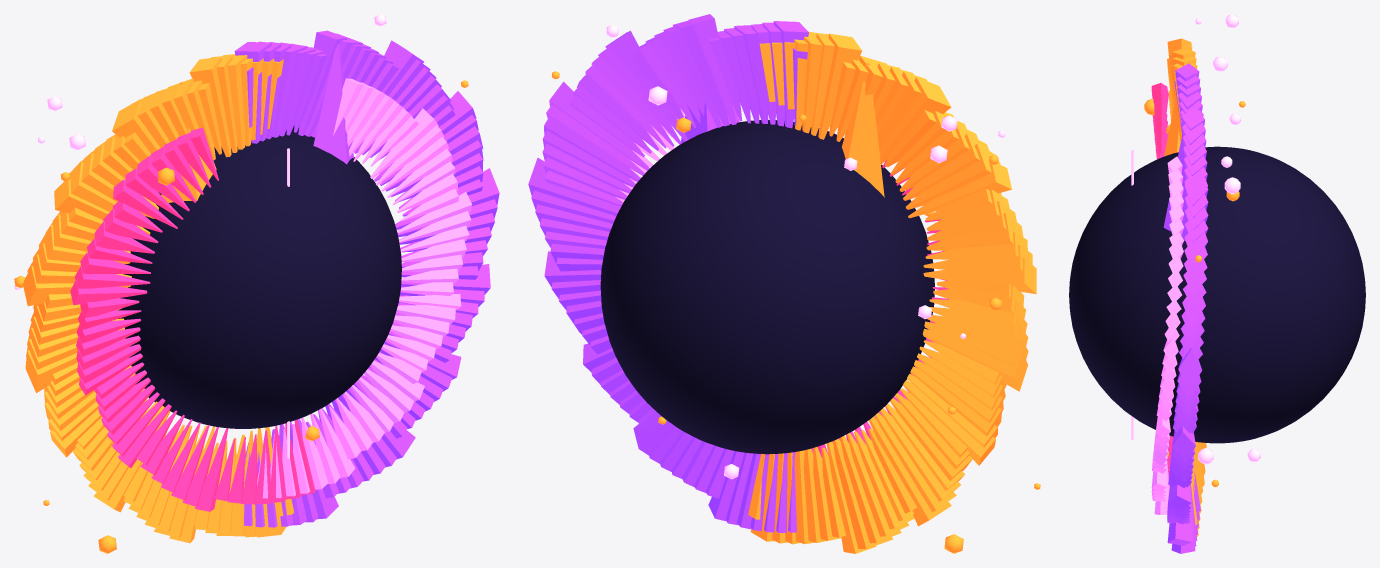
Rendered from split-firefox.glb.
3 views of the same model, side by side, from view 1: azimuth 30°, elevation 25°; view 2: azimuth 150°, elevation 25°; view 3: azimuth 270°, elevation 25° (orthographic). The views are drawn at different scales.
Visible parts, largest first — view 1: SplitCore, NightlyEar, NormalHalf006, NightlyHalf055, NormalHalf004, NormalHalf013, NightlyHighlight034, NightlyHalf059, NormalHalf020, NormalCoral013, NormalHalf005, NormalCoral034 (+105 smaller); view 2: SplitCore, NormalEar, NormalHalf013, NormalHalf027, NormalHalf034, NormalHalf006, NormalHalf020, NormalHalf019, NormalHalf048, NightlyHalf041, NightlyHalf034, NightlyHalf055 (+88 smaller); view 3: SplitCore, NightlyHalf034, NightlyEar, NightlyHalf027, NormalCoral000, NightlyHalf020, NightlyHalf048, NightlyHalf013, NormalEar, NightlyHalf041.
Part boxes in pixels (left/top/right/bottom): SplitCore: left=118, top=125, right=401, bottom=428; NightlyEar: left=313, top=44, right=353, bottom=164; NormalHalf006: left=189, top=56, right=231, bottom=157; NightlyHalf055: left=298, top=30, right=347, bottom=135; NormalHalf004: left=222, top=54, right=247, bottom=149; NormalHalf013: left=112, top=99, right=160, bottom=153; NightlyHighlight034: left=370, top=108, right=438, bottom=178; NightlyHalf059: left=272, top=42, right=307, bottom=137; NormalHalf020: left=54, top=179, right=150, bottom=234; NormalCoral013: left=70, top=280, right=147, bottom=305; NormalHalf005: left=211, top=55, right=237, bottom=152; NormalCoral034: left=195, top=428, right=228, bottom=511; SplitCore: left=600, top=120, right=934, bottom=454; NormalEar: left=842, top=62, right=884, bottom=197; NormalHalf013: left=879, top=77, right=951, bottom=164; NormalHalf027: left=923, top=258, right=1036, bottom=294; NormalHalf034: left=922, top=328, right=1027, bottom=391; NormalHalf006: left=818, top=33, right=862, bottom=139; NormalHalf020: left=908, top=163, right=1011, bottom=218; NormalHalf019: left=906, top=143, right=1000, bottom=209; NormalHalf048: left=868, top=416, right=951, bottom=526; NightlyHalf041: left=549, top=81, right=649, bottom=170; NightlyHalf034: left=528, top=158, right=620, bottom=215; NightlyHalf055: left=688, top=14, right=736, bottom=124; SplitCore: left=1069, top=146, right=1365, bottom=443; NightlyHalf034: left=1178, top=348, right=1202, bottom=390; NightlyEar: left=1163, top=132, right=1187, bottom=241; NightlyHalf027: left=1172, top=426, right=1195, bottom=461; NormalCoral000: left=1153, top=93, right=1168, bottom=152; NightlyHalf020: left=1167, top=484, right=1191, bottom=512; NightlyHalf048: left=1184, top=169, right=1208, bottom=205; NightlyHalf013: left=1167, top=522, right=1191, bottom=545; NormalEar: left=1164, top=102, right=1180, bottom=156; NightlyHalf041: left=1183, top=261, right=1206, bottom=294.
Size of the model in its own units: 4.65 by 4.6 by 2.7.
